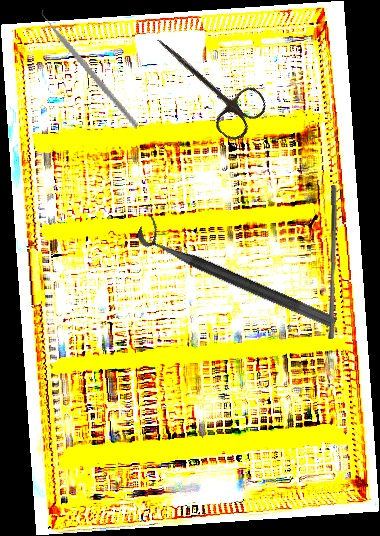Chopper: (16, 0, 166, 130)
Fixation Ring: (133, 212, 346, 330)
Iris Scissors: (137, 20, 273, 146)
Pusher: (325, 185, 340, 339)
